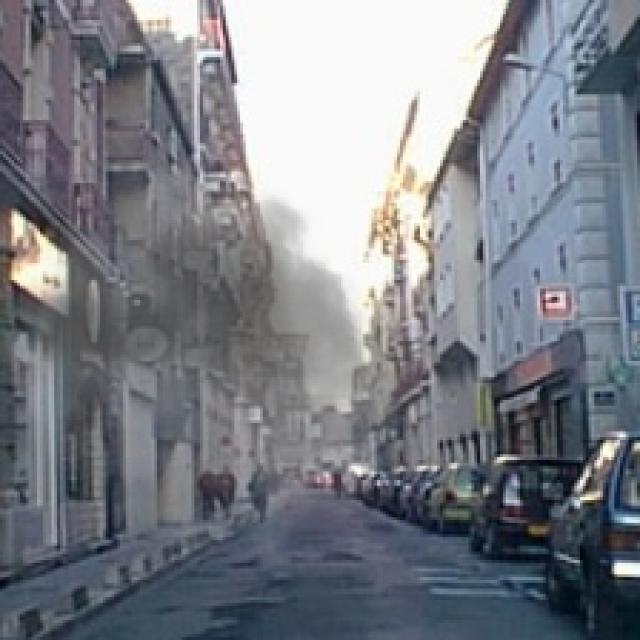Smoke: (0, 146, 409, 568)
